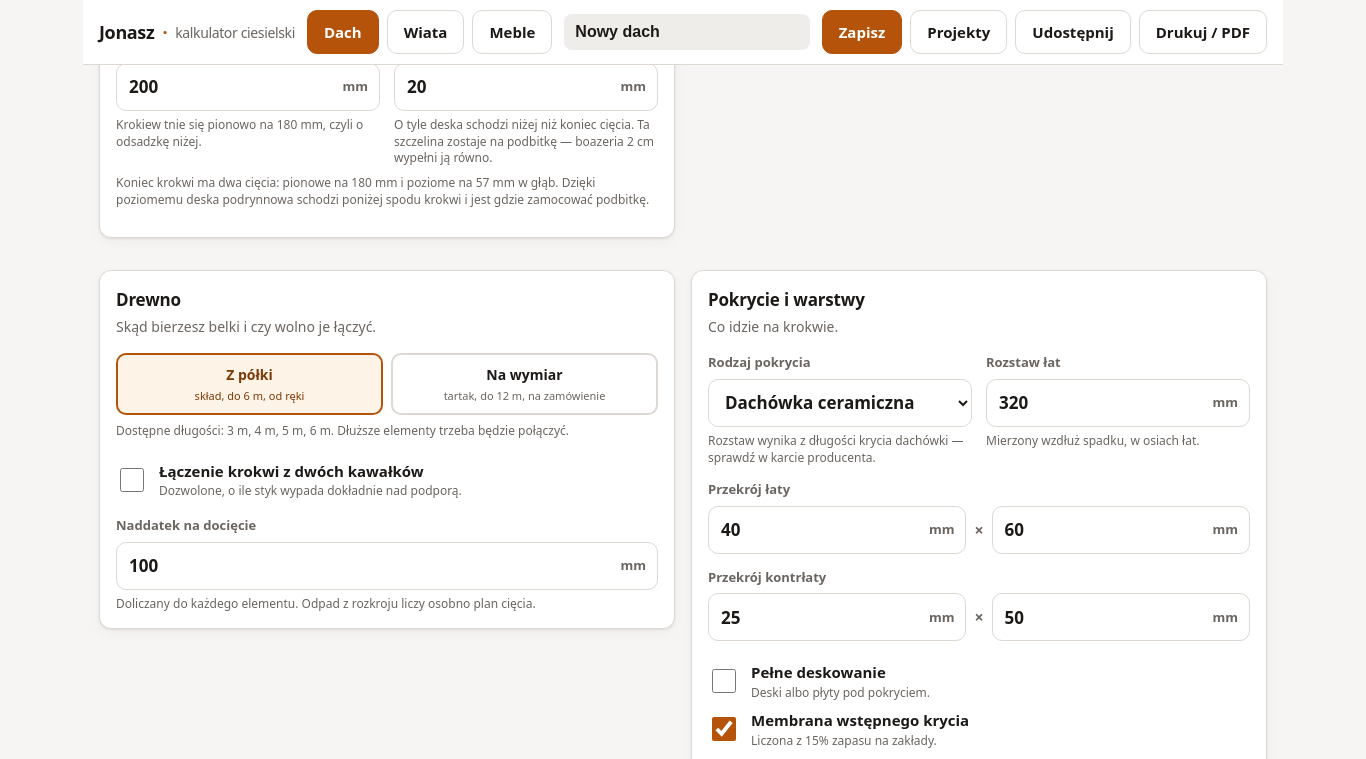
Test case: aplikacja jako całość › przełączenie drewna na wymiar zmienia dostępne długości
(page scrolled)
expect the text "Dostępne długości: 3 m, 4 m, 5 m, 6 m" is shown: met, box left=116, top=422, right=569, bottom=439
Click the button "Na wymiar tartak, do 12 m, na zamówienie" at (524, 384), box left=391, top=353, right=658, bottom=415
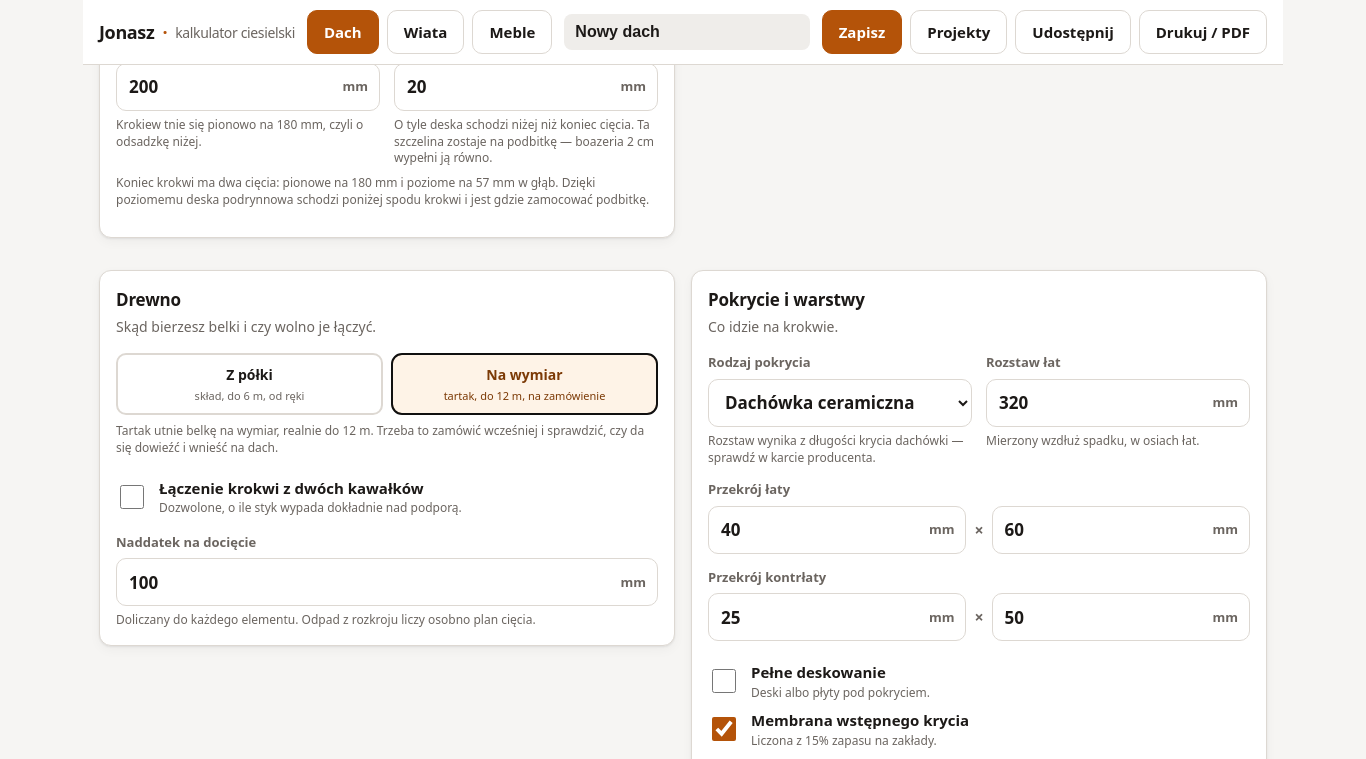
expect the text "realnie do 12 m" is shown: met, box left=116, top=422, right=644, bottom=456
